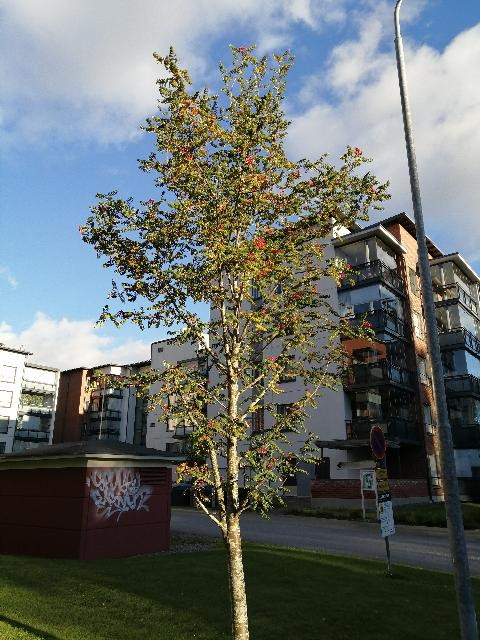rowan: (76, 38, 396, 640)
